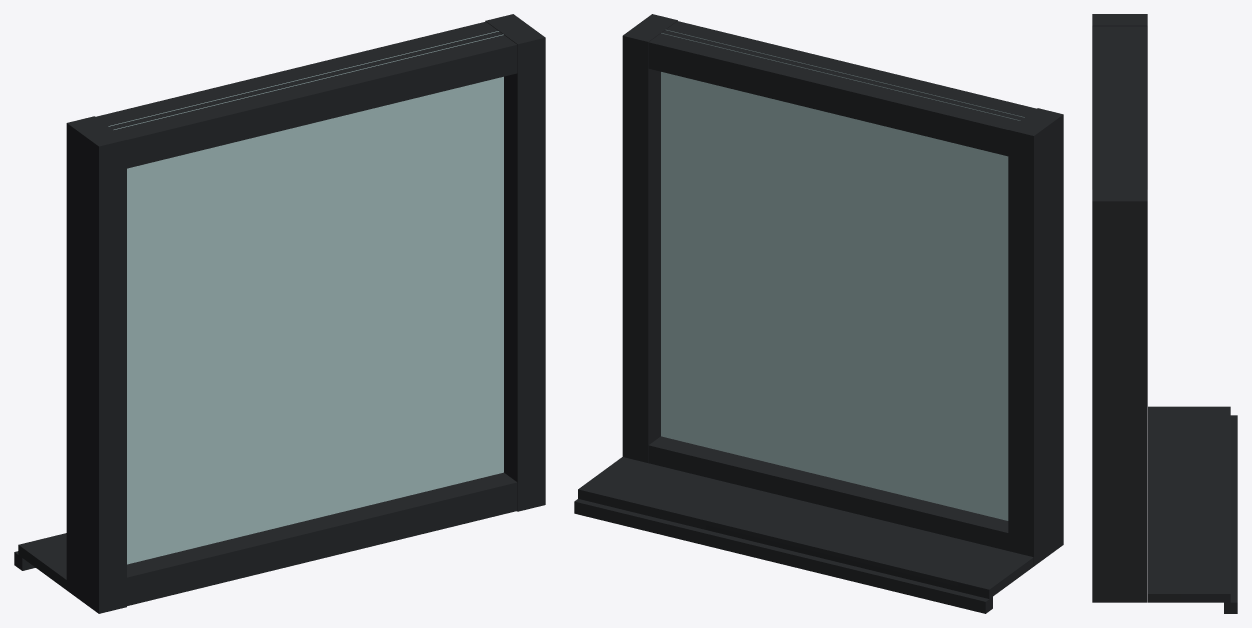
The model's file is item.obj.
The picture shows the model from 3 angles, left to right: view 1: azimuth 30°, elevation 25°; view 2: azimuth 150°, elevation 25°; view 3: azimuth 270°, elevation 25°; orthographic projection. The views are drawn at different scales.
Parts seen in each view (by area): view 1: glass_lite, frame_right_member, rail_top_member, frame_left_member, sill_rail, sill_flashing; view 2: glass_lite, frame_right_member, sill_flashing, rail_top_member, frame_left_member, sill_rail, sill_drip; view 3: frame_left_member, sill_flashing, rail_top_member, sill_drip, frame_right_member.
Part boxes in pixels (x1,y1,x2,y2): glass_lite: (108, 31, 503, 564); frame_right_member: (66, 116, 126, 613); rail_top_member: (96, 21, 517, 168); frame_left_member: (485, 14, 545, 511); sill_rail: (127, 472, 517, 605); sill_flashing: (18, 533, 66, 589); glass_lite: (661, 29, 1024, 520); frame_right_member: (1008, 108, 1063, 566); sill_flashing: (578, 457, 1033, 598); rail_top_member: (648, 21, 1036, 156); frame_left_member: (622, 14, 677, 463); sill_rail: (648, 436, 1008, 550); sill_drip: (574, 499, 992, 613); frame_left_member: (1092, 189, 1147, 602); sill_flashing: (1148, 406, 1230, 602); rail_top_member: (1093, 26, 1146, 189); sill_drip: (1224, 415, 1237, 613); frame_right_member: (1092, 14, 1147, 189).
Size of the model in its own units: 1 by 1.03 by 0.3281.
